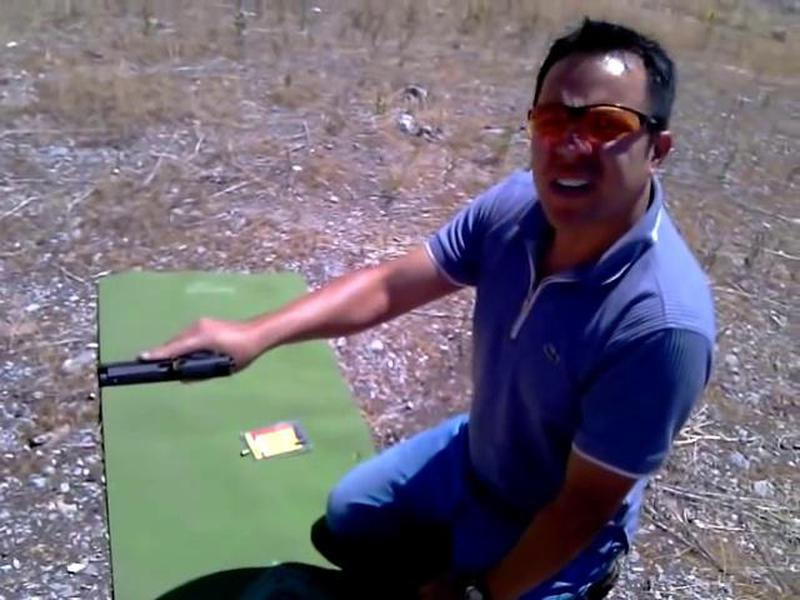Pistola: (89, 335, 249, 408)
